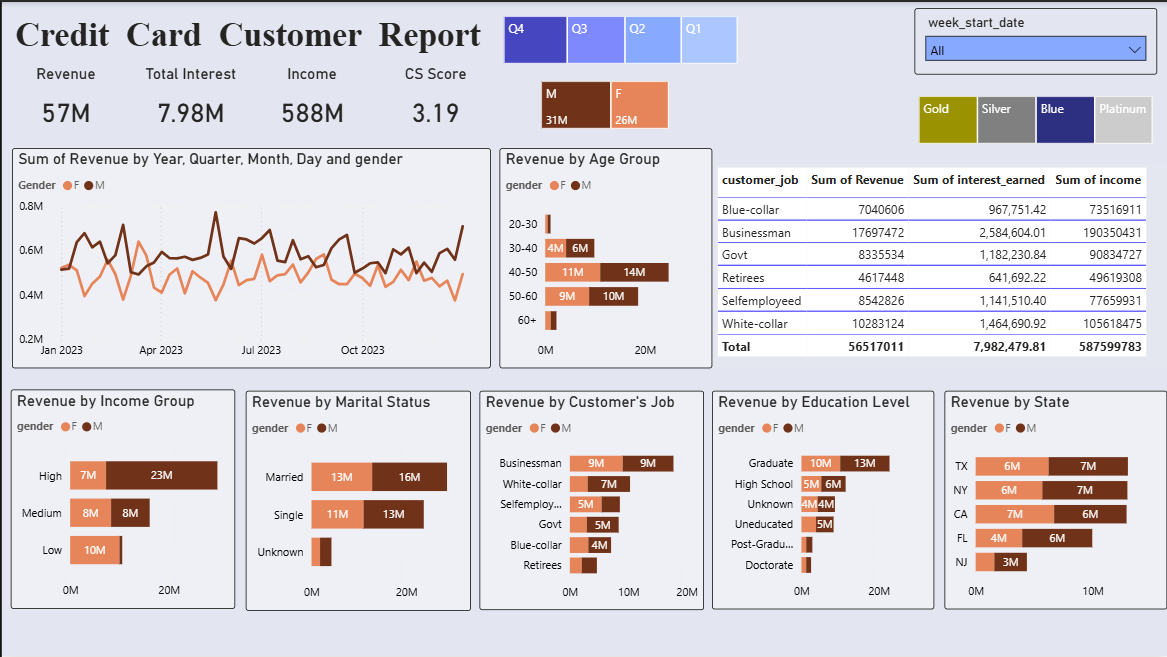

Layout of this report page (visuals, bound fields, positions):
{"tool":"powerbi","page":{"name":"Credit Card Customer ","canvas":[1280,720],"ordinal":1},"visuals":[{"type":"textbox","box":[9.3,9.3,564,59.3],"z":0},{"type":"barChart","title":"Revenue by Income Group","fields":{"Y":["Sum(public cc_detail.Revenue)"],"Category":["public cust_detail.IncomeGroup"],"Series":["public cust_detail.gender"]},"box":[9.3,425.6,246.5,240.7],"z":1000},{"type":"tableEx","fields":{"Values":["public cust_detail.customer_job","Sum(public cc_detail.Revenue)","Sum(public cc_detail.interest_earned)","Sum(public cust_detail.income)"]},"box":[779.4,177,500.9,225],"z":2000},{"type":"card","title":"Revenue","fields":{"Values":["Sum(public cc_detail.Revenue)"]},"box":[9.3,68.6,120.9,83.7],"z":3000},{"type":"card","title":"Total Interest","fields":{"Values":["Sum(public cc_detail.interest_earned)"]},"box":[146.5,68.6,120.9,83.7],"z":4000},{"type":"card","title":"CS Score","fields":{"Values":["Avg(public cust_detail.cust_satisfaction_score)"]},"box":[416.3,68.6,120.9,83.7],"z":5000},{"type":"card","title":"Income","fields":{"Values":["Sum(public cust_detail.income)"]},"box":[280.2,68.6,120.9,83.7],"z":6000},{"type":"slicer","fields":{"Values":["public cc_detail.week_start_date"]},"box":[1001.7,6.9,266.2,72.7],"z":7000},{"type":"treemap","fields":{"Group":["public cc_detail.qtr"],"Values":["Avg(public cust_detail.client_num)"]},"box":[546.1,11,266.2,61.7],"z":8000},{"type":"lineChart","fields":{"Y":["Sum(public cc_detail.Revenue)"],"Series":["public cust_detail.gender"],"Category":["public cc_detail.week_start_date.Variation.Date Hierarchy.Year","public cc_detail.week_start_date.Variation.Date Hierarchy.Quarter","public cc_detail.week_start_date.Variation.Date Hierarchy.Month","public cc_detail.week_start_date.Variation.Date Hierarchy.Day"]},"box":[11,160.5,525.6,241.5],"z":9000},{"type":"treemap","fields":{"Group":["public cust_detail.gender"],"Values":["Sum(public cc_detail.Revenue)"]},"box":[587.3,82.3,149.6,61.7],"z":10000},{"type":"barChart","title":"Revenue by Age Group","fields":{"Y":["Sum(public cc_detail.Revenue)"],"Category":["public cust_detail.AgeGroup"],"Series":["public cust_detail.gender"]},"box":[546.1,160.5,233.3,241.5],"z":11000},{"type":"barChart","title":"Revenue by Customer''s Job","fields":{"Y":["Sum(public cc_detail.Revenue)"],"Category":["public cust_detail.customer_job"],"Series":["public cust_detail.gender"]},"box":[524.4,426.7,246.5,240.7],"z":12000},{"type":"barChart","title":"Revenue by Education Level","fields":{"Y":["Sum(public cc_detail.Revenue)"],"Category":["public cust_detail.education_level"],"Series":["public cust_detail.gender"]},"box":[779.4,426.8,244.3,240.1],"z":13000},{"type":"barChart","title":"Revenue by State","fields":{"Y":["Sum(public cc_detail.Revenue)"],"Category":["public cust_detail.state_cd"],"Series":["public cust_detail.gender"]},"box":[1034.7,426.8,245.6,240.1],"z":14000},{"type":"barChart","title":"Revenue by Marital Status","fields":{"Y":["Sum(public cc_detail.Revenue)"],"Category":["public cust_detail.marital_status"],"Series":["public cust_detail.gender"]},"box":[267.6,426.8,247,241.5],"z":15000},{"type":"treemap","fields":{"Group":["public cc_detail.card_category"],"Values":["Avg(public cust_detail.client_num)"]},"box":[1001.7,98.8,266.2,61.7],"z":15001}]}

Visuals, with their boxes in screenshot pixels (x1, y1, x2, y2), scaled from the page's 1280x720 canvas onto the 1167x657 screenshot:
textbox: (8, 8, 523, 63)
"Revenue by Income Group" barChart: (8, 388, 233, 608)
tableEx - public cust_detail.customer_job x Sum(public cc_detail.Revenue): (711, 162, 1166, 367)
"Revenue" card: (8, 63, 119, 139)
"Total Interest" card: (134, 63, 244, 139)
"CS Score" card: (380, 63, 490, 139)
"Income" card: (255, 63, 366, 139)
slicer - public cc_detail.week_start_date: (913, 6, 1156, 73)
treemap - public cc_detail.qtr x Avg(public cust_detail.client_num): (498, 10, 741, 66)
lineChart - Sum(public cc_detail.Revenue) x public cust_detail.gender: (10, 146, 489, 367)
treemap - public cust_detail.gender x Sum(public cc_detail.Revenue): (535, 75, 672, 131)
"Revenue by Age Group" barChart: (498, 146, 711, 367)
"Revenue by Customer''s Job" barChart: (478, 389, 703, 609)
"Revenue by Education Level" barChart: (711, 389, 933, 609)
"Revenue by State" barChart: (943, 389, 1166, 609)
"Revenue by Marital Status" barChart: (244, 389, 469, 610)
treemap - public cc_detail.card_category x Avg(public cust_detail.client_num): (913, 90, 1156, 146)
